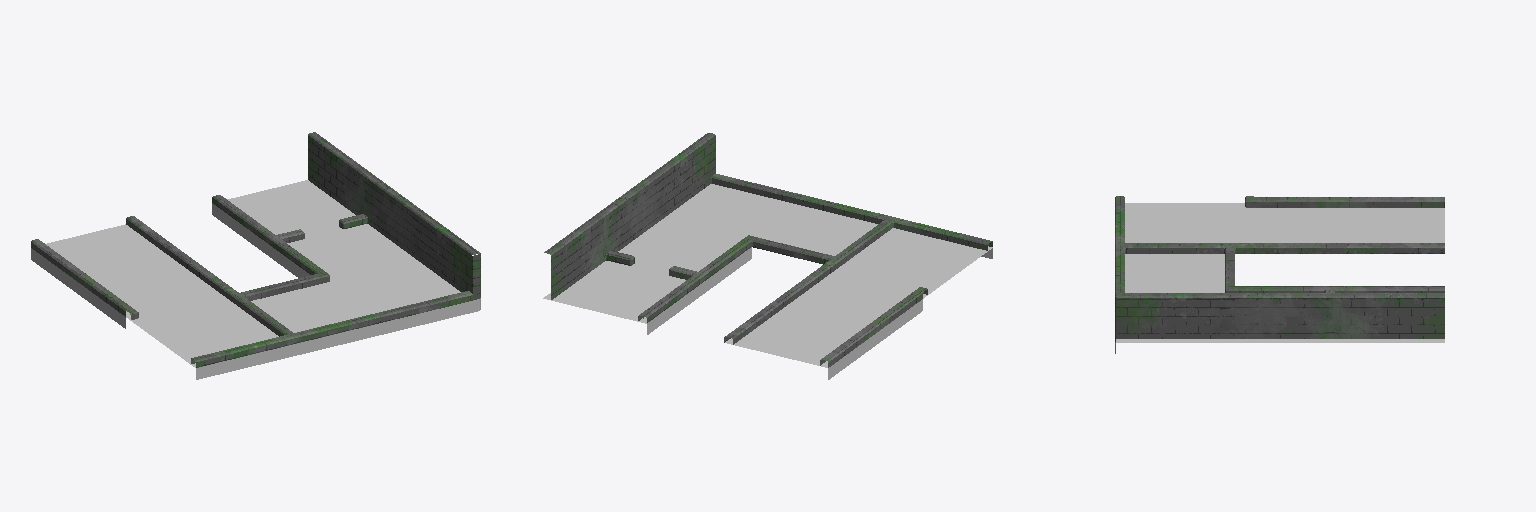
The picture shows the model from 3 angles: view 1: azimuth 30°, elevation 25°; view 2: azimuth 150°, elevation 25°; view 3: azimuth 270°, elevation 25°; orthographic projection.
Parts seen in each view (by area): view 1: Cube.084, Cube.149, Cube.151, Cube.150; view 2: Cube.084, Cube.149, Cube.151, Cube.150; view 3: Cube.084, Cube.149, Cube.151, Cube.150.
Boxes of the visible parts, x1=… form: Cube.084: x1=31, y1=180, x2=480, y2=379; Cube.149: x1=308, y1=132, x2=480, y2=299; Cube.151: x1=126, y1=195, x2=472, y2=367; Cube.150: x1=31, y1=239, x2=138, y2=319; Cube.084: x1=543, y1=184, x2=992, y2=379; Cube.149: x1=544, y1=133, x2=715, y2=299; Cube.151: x1=638, y1=174, x2=992, y2=344; Cube.150: x1=820, y1=287, x2=927, y2=367; Cube.084: x1=1115, y1=203, x2=1444, y2=353; Cube.149: x1=1115, y1=293, x2=1444, y2=341; Cube.151: x1=1115, y1=196, x2=1444, y2=292; Cube.150: x1=1245, y1=196, x2=1444, y2=207.
Size of the model in its own units: 99 by 19.27 by 99.
3 materials, 1 textured.